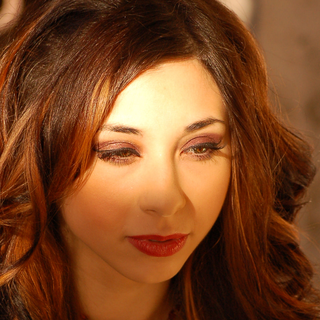eye: (94, 136, 146, 168), (177, 133, 225, 164)
